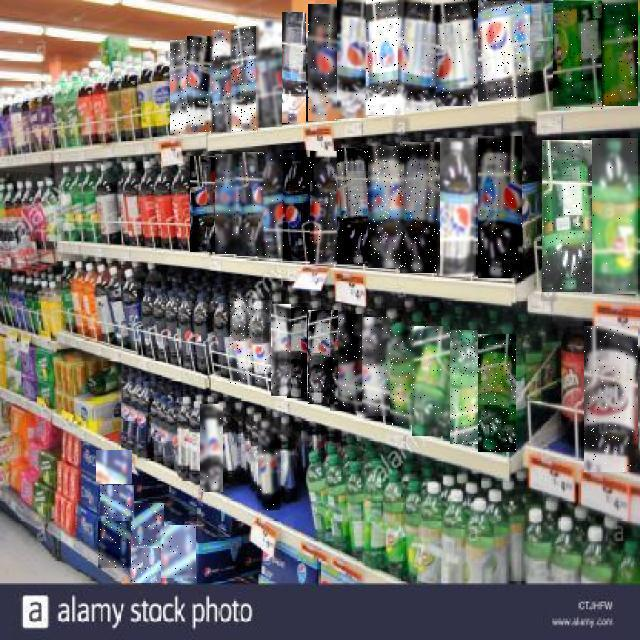Drinks: (585, 326, 639, 472), (542, 140, 592, 292), (592, 138, 640, 294), (478, 137, 522, 279), (438, 138, 478, 276), (553, 2, 604, 110), (400, 142, 440, 273), (478, 1, 530, 101), (478, 334, 516, 452), (437, 0, 479, 106), (399, 0, 439, 111), (368, 146, 404, 268), (366, 0, 404, 115), (412, 326, 450, 436), (337, 148, 372, 264), (602, 0, 638, 106), (337, 0, 368, 118), (310, 151, 341, 264), (283, 150, 314, 261), (308, 4, 337, 121), (358, 318, 390, 418), (450, 331, 478, 445), (330, 314, 362, 411), (386, 323, 414, 425), (308, 310, 338, 404), (256, 19, 282, 127), (258, 153, 284, 258), (237, 152, 263, 256), (188, 36, 216, 132), (191, 157, 219, 253), (282, 12, 306, 123), (212, 31, 238, 133), (170, 41, 198, 135), (216, 154, 242, 254), (234, 26, 258, 131), (248, 300, 272, 389), (200, 405, 223, 493), (258, 419, 280, 510), (230, 298, 252, 384), (161, 526, 196, 580), (271, 304, 291, 396), (287, 307, 307, 398), (98, 522, 131, 570), (130, 503, 164, 548), (97, 450, 133, 484), (101, 486, 135, 520), (130, 546, 161, 583)
